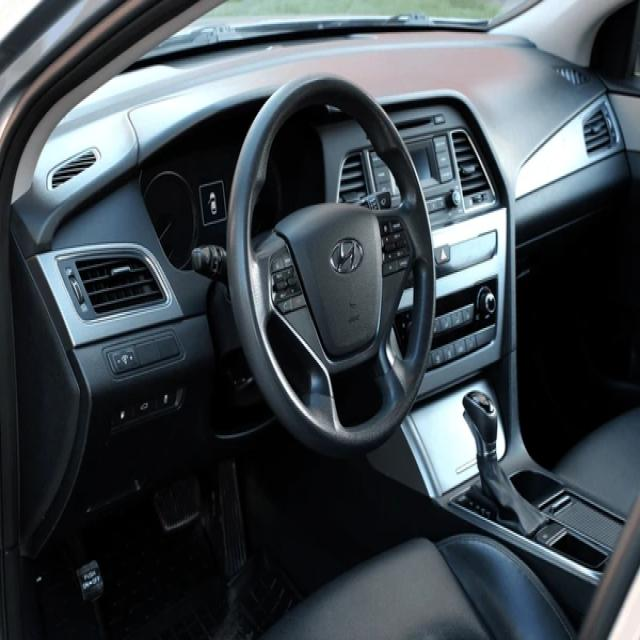hyundai: (328, 236, 366, 282)
